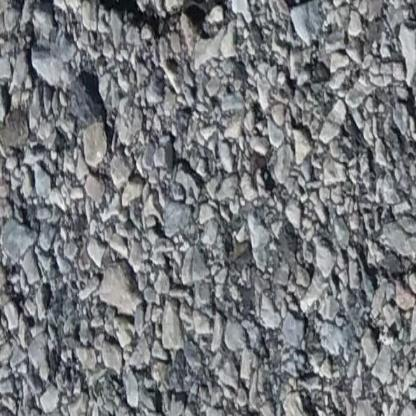Cracks: (8, 0, 262, 45)
